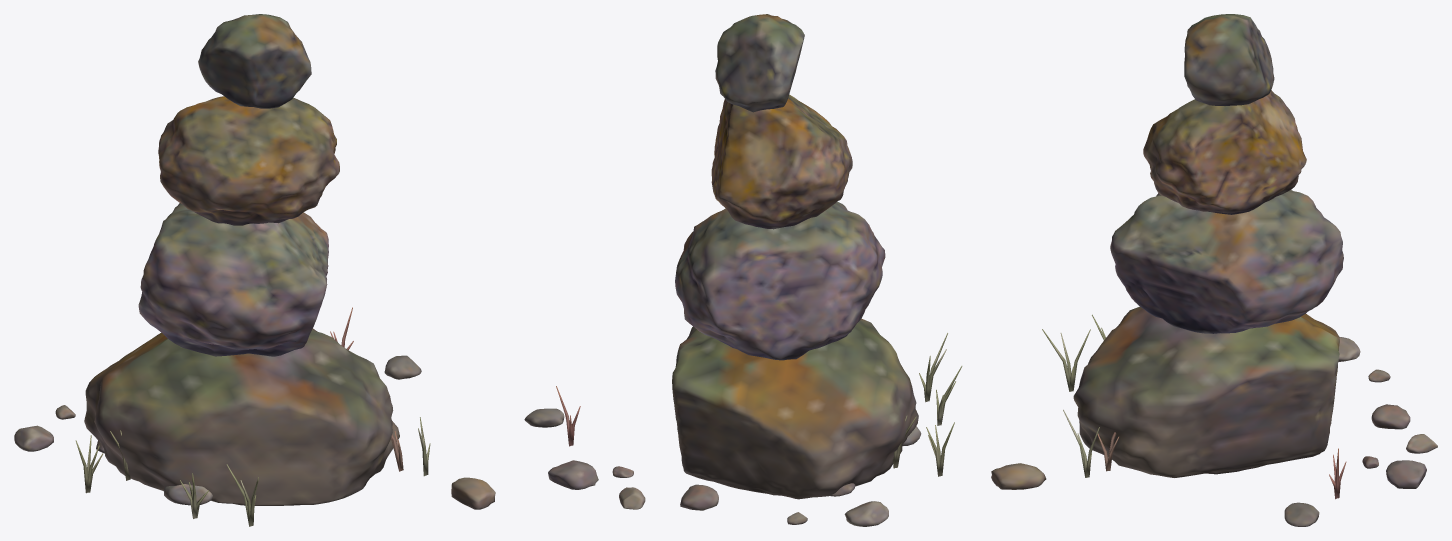
The model's file is tas_dengeli.glb.
3 views of the same model, side by side, from view 1: azimuth 30°, elevation 25°; view 2: azimuth 150°, elevation 25°; view 3: azimuth 270°, elevation 25° (orthographic). The views are drawn at different scales.
Parts seen in each view (by area): view 1: tas_dengeli_LOD0; view 2: tas_dengeli_LOD0; view 3: tas_dengeli_LOD0.
Boxes of the visible parts, x1,y1,x2,y2 form: tas_dengeli_LOD0: [14, 14, 495, 526]; tas_dengeli_LOD0: [524, 14, 962, 526]; tas_dengeli_LOD0: [991, 14, 1437, 526].
Size of what is drawn, in the model's own units: 2.68 by 2.94 by 2.76.
